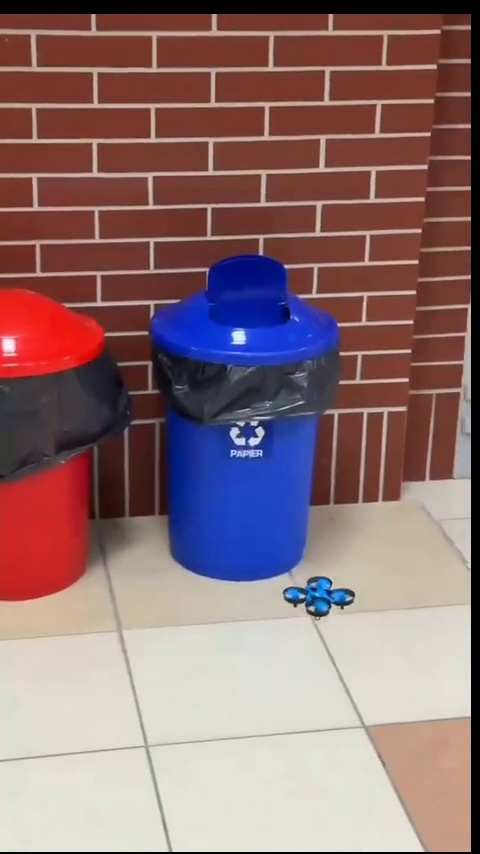drone: (284, 577, 356, 622)
